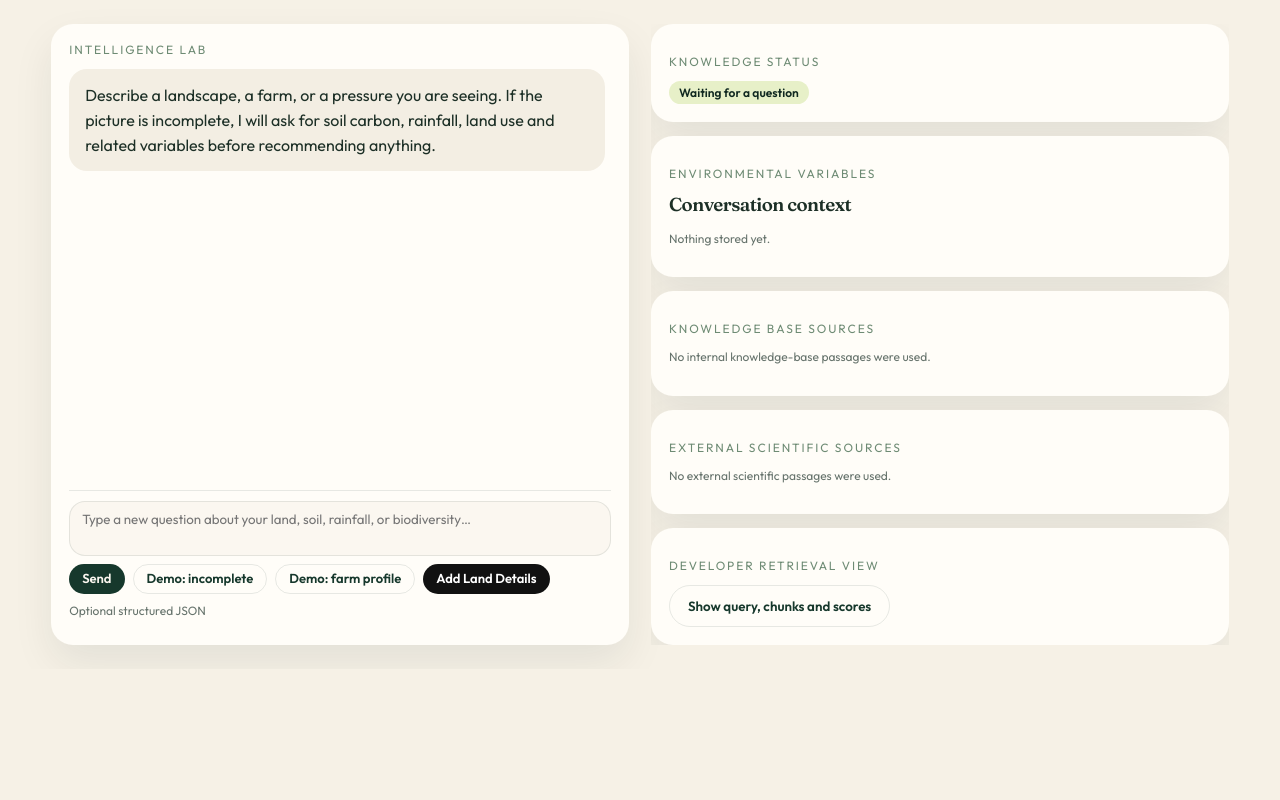
Test: Intelligence Lab land details › renders impacted metrics returned by the backend
Replace the text in the text box with placeholder "Type a new question" with "What should I do on my wheat farm?" at (340, 529), box [69,501,611,556]
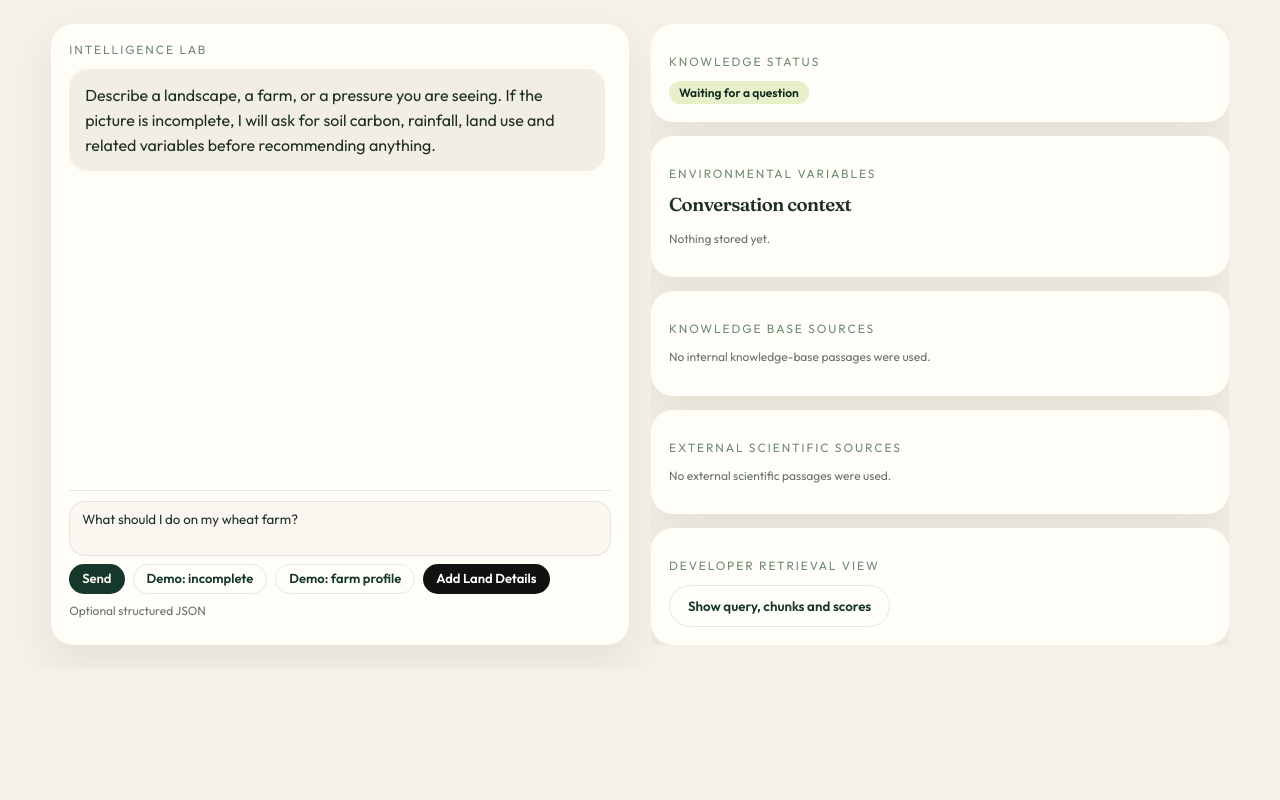
Click the button "Send" at (97, 579), box [69,564,124,594]
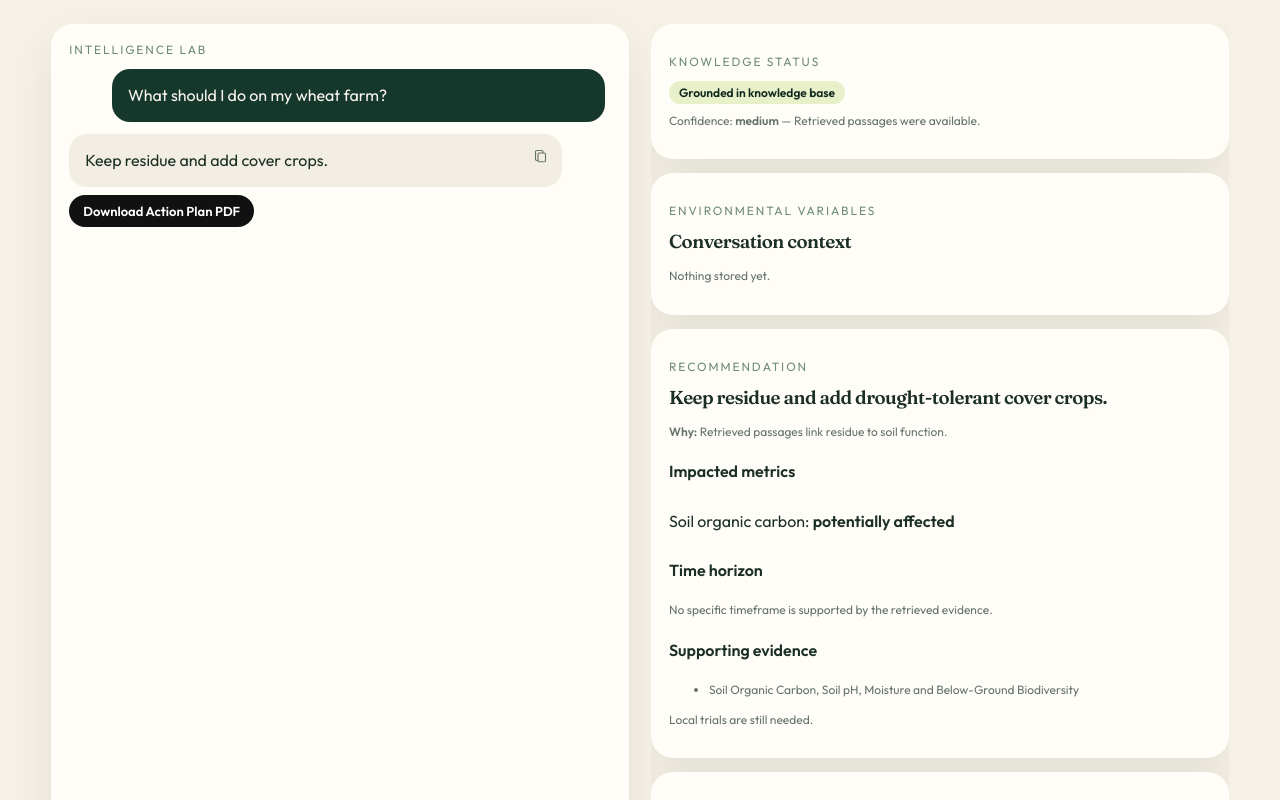
Now the element with test id "recommendation-panel" is shown, box [651,329,1229,758]
Now the heading "Keep residue and add drought-tolerant cover crops." is shown, box [669,386,1107,409]
Now the text "Why: Retrieved passages link residue to soil function." is shown, box [669,424,947,439]
